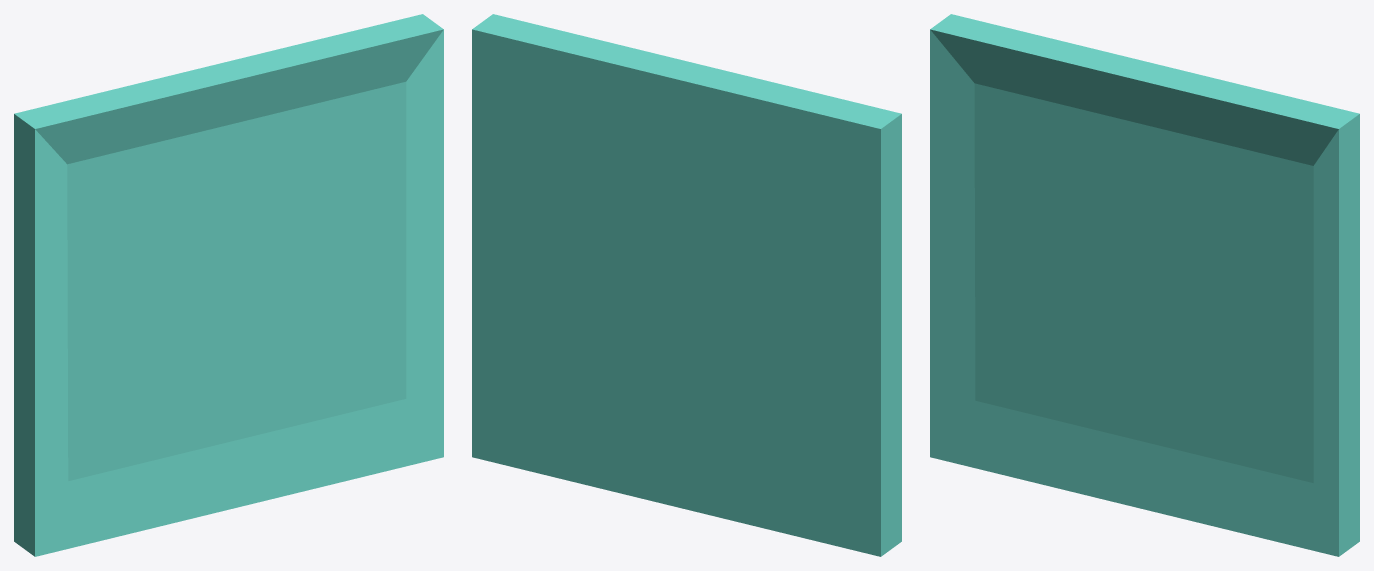
File: message board.fbx
3 views of the same model, side by side, from view 1: azimuth 30°, elevation 25°; view 2: azimuth 150°, elevation 25°; view 3: azimuth 330°, elevation 25° (orthographic).
Visible parts, largest first — view 1: Cube; view 2: Cube; view 3: Cube.
Part boxes in pixels (box(x1,y1,x2,y2)): Cube: box(14, 14, 443, 556); Cube: box(472, 14, 901, 556); Cube: box(930, 14, 1359, 556).
Size of the model in its own units: 2052 by 2052 by 183.
